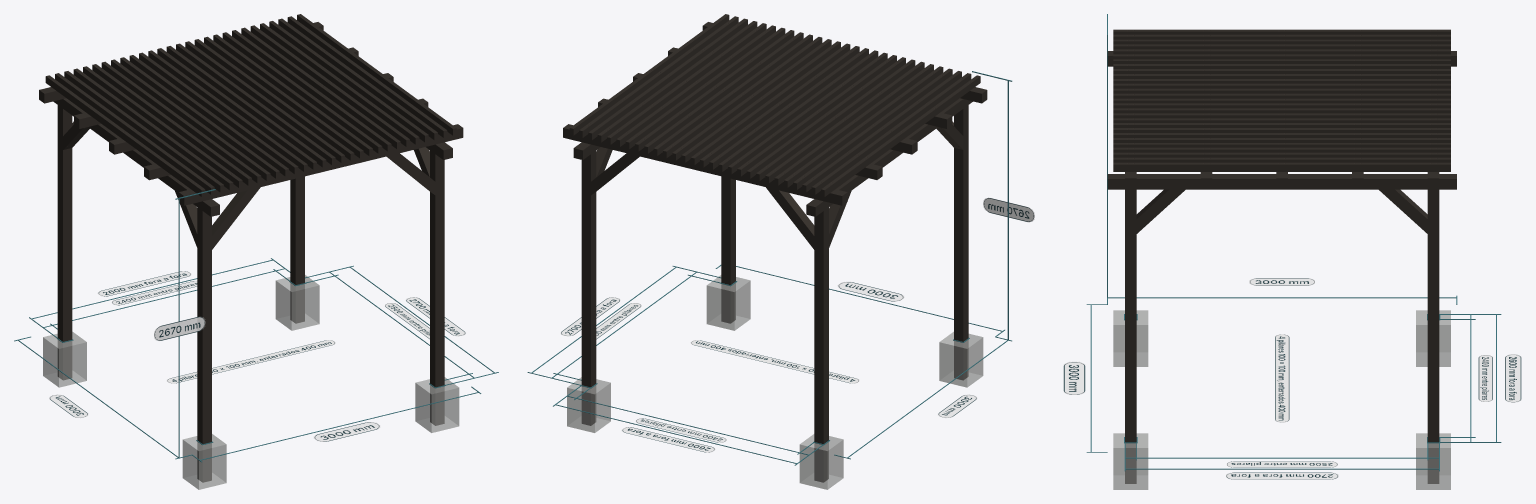
File: pergula-411a.glb
The picture shows the model from 3 angles, left to right: view 1: azimuth 30°, elevation 25°; view 2: azimuth 150°, elevation 25°; view 3: azimuth 270°, elevation 25°; orthographic projection. The views are drawn at different scales.
Parts seen in each view (by area): view 1: Geo0, EnBetao, EnPerfil, FL, CL, FT4, CHn, FT1, CWn, FT0; view 2: Geo0, EnBetao, EnPerfil, FL, CL, FT4, CHn, FT1, CWn, FT0; view 3: Geo0, EnBetao, FL, FT4, CL, FT3, EnPerfil, FT1, FT2, CWn, FT0, CDn.
Part boxes in pixels (box(x1,y1,x2,y2)): Geo0: box(39, 14, 463, 443); EnBetao: box(43, 275, 459, 489); EnPerfil: box(58, 283, 444, 482); FL: box(29, 258, 498, 385); CL: box(14, 189, 481, 462); FT4: box(167, 340, 335, 383); CHn: box(154, 316, 205, 340); FT1: box(98, 271, 191, 296); CWn: box(313, 422, 380, 441); FT0: box(112, 281, 197, 305); Geo0: box(563, 14, 987, 443); EnBetao: box(567, 275, 983, 489); EnPerfil: box(582, 283, 968, 482); FL: box(527, 266, 823, 465); CL: box(715, 71, 1012, 459); FT4: box(691, 340, 859, 383); CHn: box(983, 197, 1034, 222); FT1: box(622, 427, 715, 452); CWn: box(837, 282, 904, 301); FT0: box(636, 418, 726, 442); Geo0: box(1107, 29, 1456, 442); EnBetao: box(1113, 310, 1450, 489); FL: box(1124, 314, 1501, 471); FT4: box(1275, 334, 1289, 422); CL: box(1086, 14, 1457, 452); FT3: box(1226, 472, 1338, 479); EnPerfil: box(1125, 443, 1438, 483); FT1: box(1505, 354, 1521, 402); FT2: box(1226, 461, 1337, 467); CWn: box(1063, 361, 1085, 394); FT0: box(1478, 355, 1492, 401); CDn: box(1249, 278, 1314, 285).
Size of the model in its own units: 4.1 by 3.07 by 3.94.
Materials: 12 (8 with a texture image).
